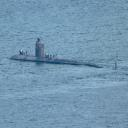submarine: (9, 43, 118, 70)
